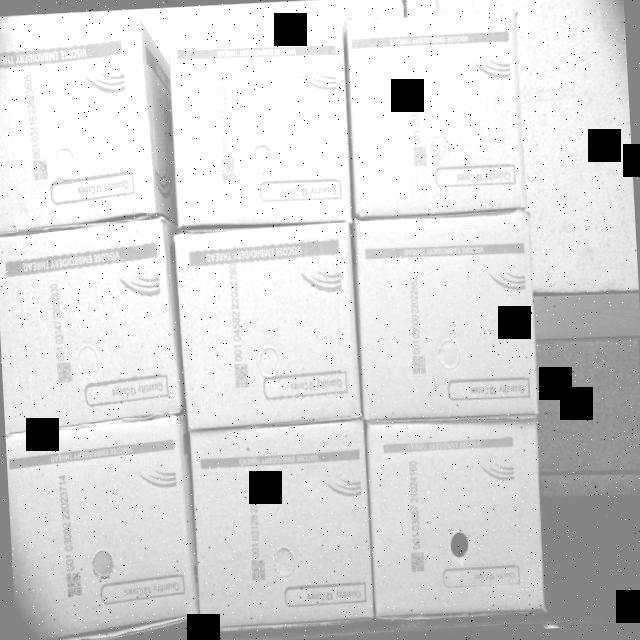box: (5, 419, 199, 640), (169, 220, 365, 429), (353, 210, 543, 424), (166, 15, 352, 232), (185, 422, 376, 632), (0, 220, 181, 434), (345, 9, 527, 220), (366, 416, 545, 618), (0, 17, 157, 229)
